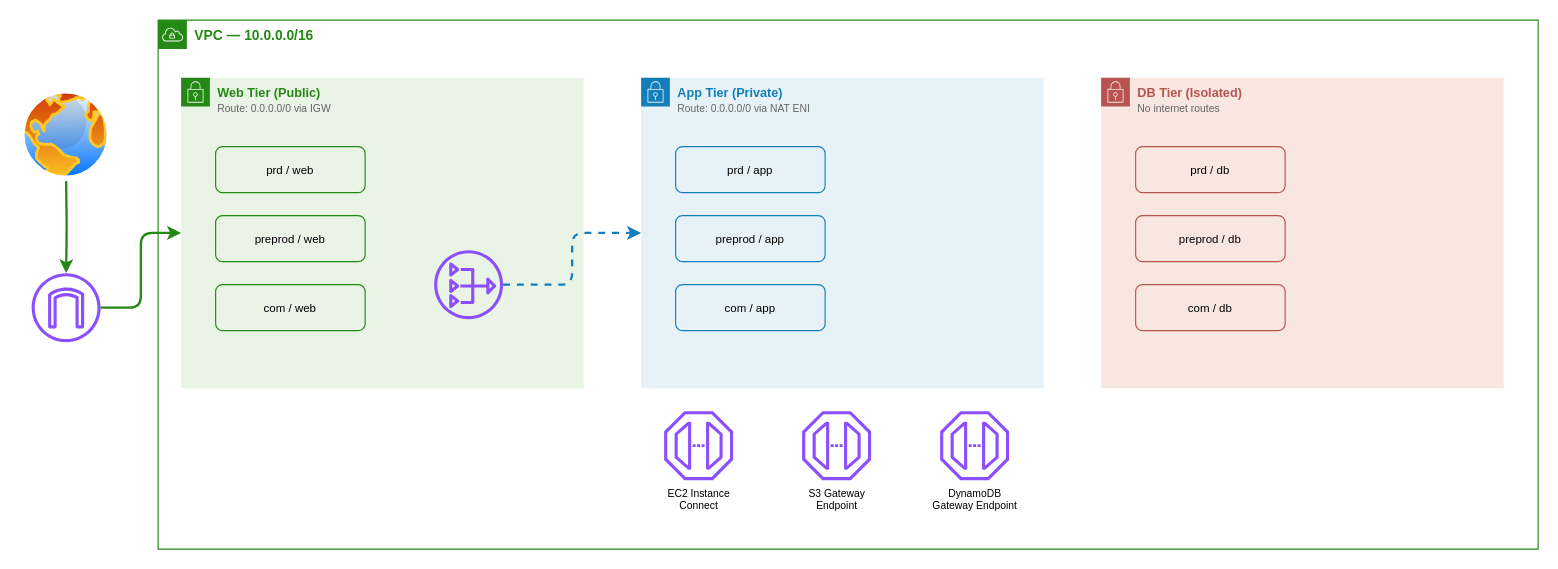
This 1558x569 diagram has some shape labels left out. The shapes that lost their labels are listed below. From the top down, each one's centre as x and y in pixels, then its label:
At (x=468, y=284): "fck-nat (t4g.nano)".
At (x=65, y=307): "Internet Gateway".
